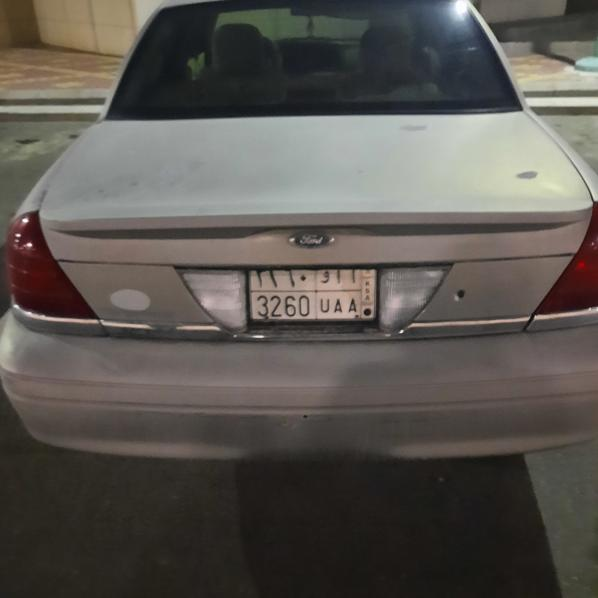numberplate: (248, 267, 377, 320)
